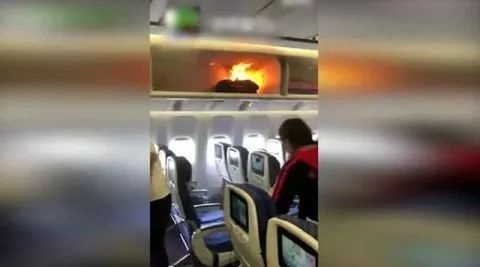fire: (216, 56, 271, 91)
